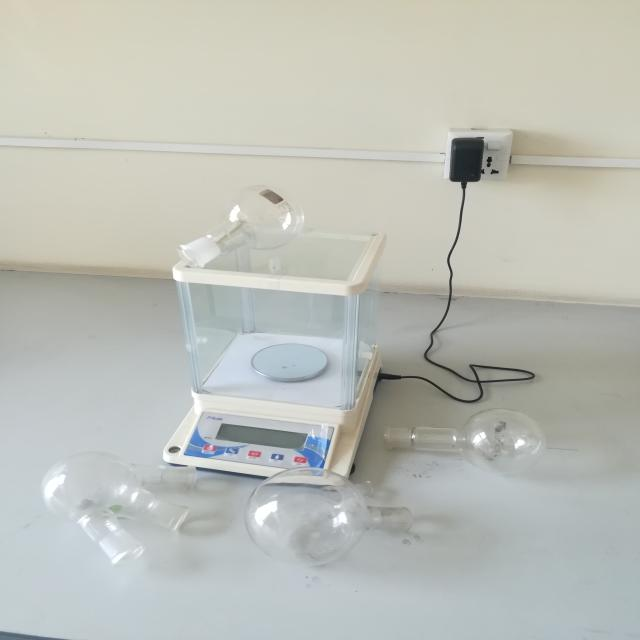Round_Bottom_Flask_Borosilicate_Glass_1_Neck: (360, 379, 574, 492), (162, 157, 325, 289)
Round_Bottom_Flask_Borosilicate_Glass_2_Neck: (228, 454, 447, 586)
Round_Bottom_Flask_Borosilicate_Glass_3_Neck: (28, 429, 227, 581)
